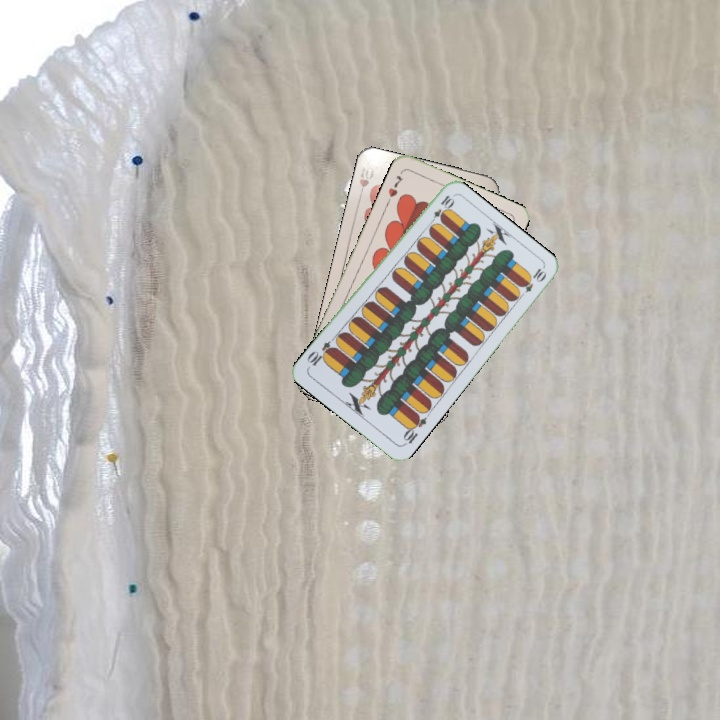E10: (425, 191, 456, 228), (399, 410, 429, 448)
H10: (355, 160, 377, 201)
H7: (384, 171, 406, 200)
